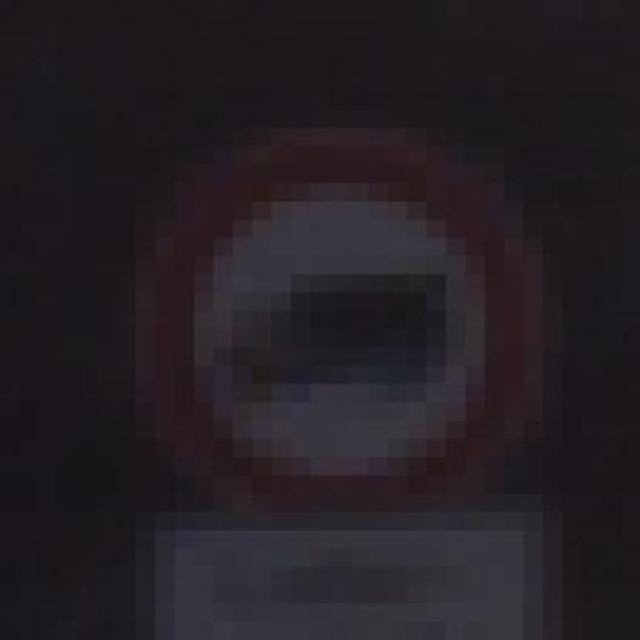Truck traffic is prohibited: (113, 93, 579, 533)
